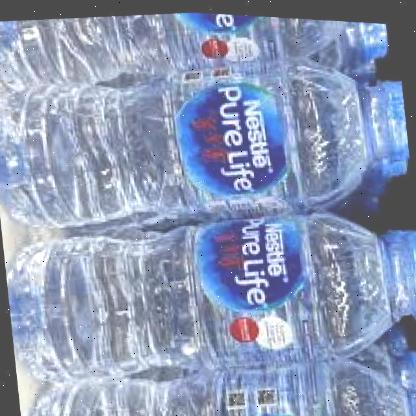Plastic Bottle: (1, 60, 409, 230), (22, 212, 414, 382)
